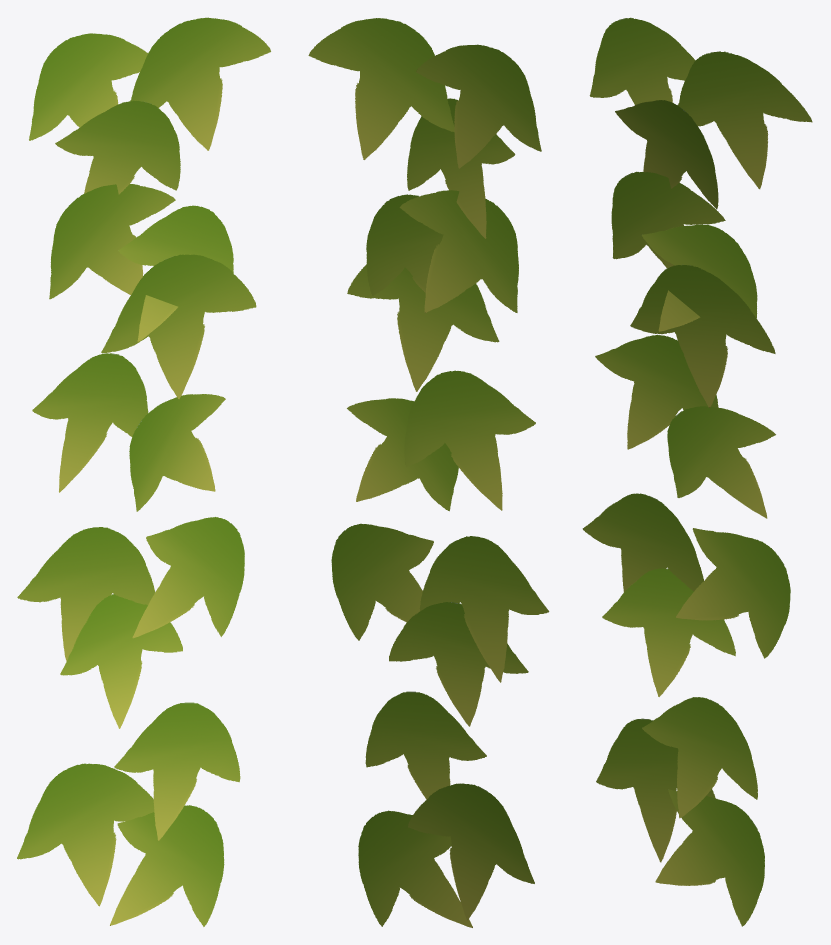
Rendered from ivy_1.fbx.
3 views of the same model, side by side, from view 1: azimuth 30°, elevation 25°; view 2: azimuth 150°, elevation 25°; view 3: azimuth 330°, elevation 25° (orthographic). The views are drawn at different scales.
Visible parts, largest first — view 1: Plane.255; view 2: Plane.255; view 3: Plane.255.
Part boxes in pixels (x1=…): Plane.255: x1=17, y1=17, x2=270, y2=926; Plane.255: x1=308, y1=18, x2=549, y2=927; Plane.255: x1=582, y1=17, x2=812, y2=926.
Bounding box in the file's own units: 68.1 × 236 × 13.4.
